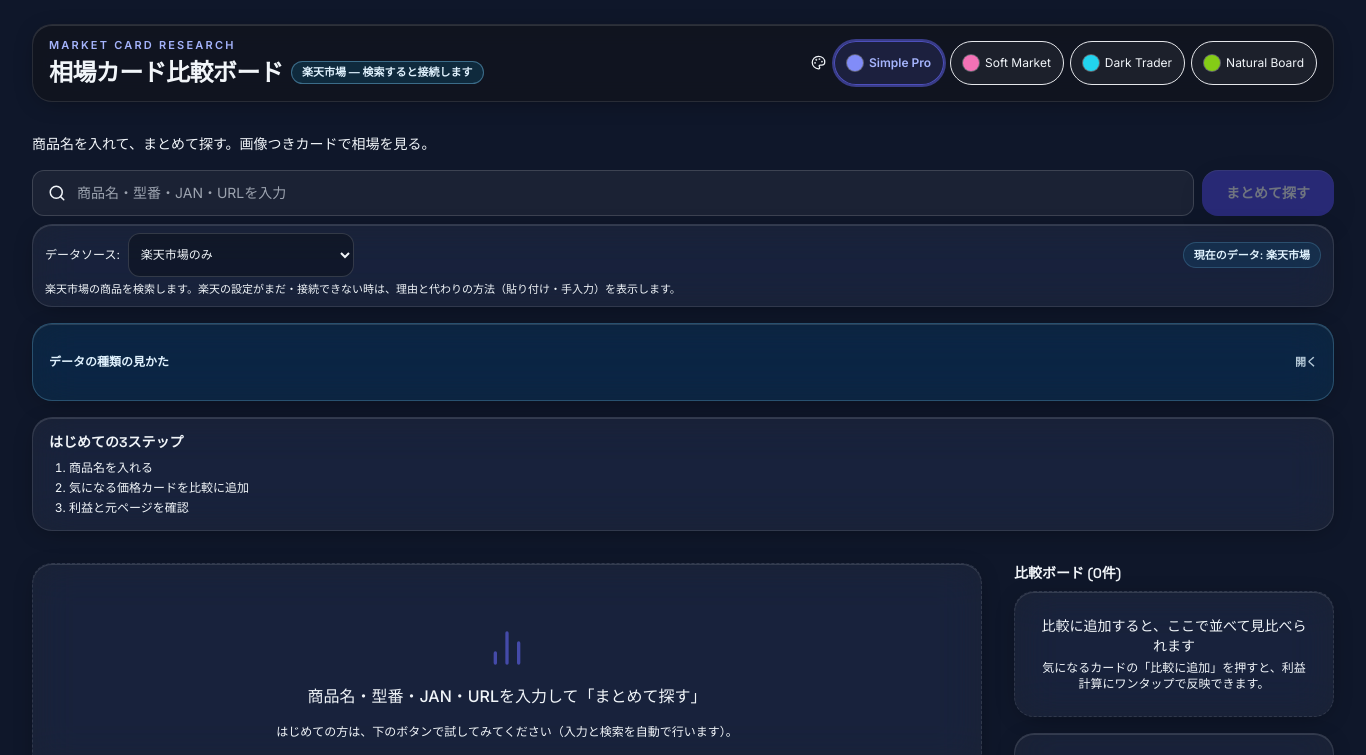
Test: AppShell › shows a 0件 empty-state message when a search returns no cards
The width and height of the screenshot is (1366, 755).
Type "zzzz-no-result" into the field labelled "商品名・型番・JAN・URL". click: [613, 193]
box: [32, 170, 1194, 216]
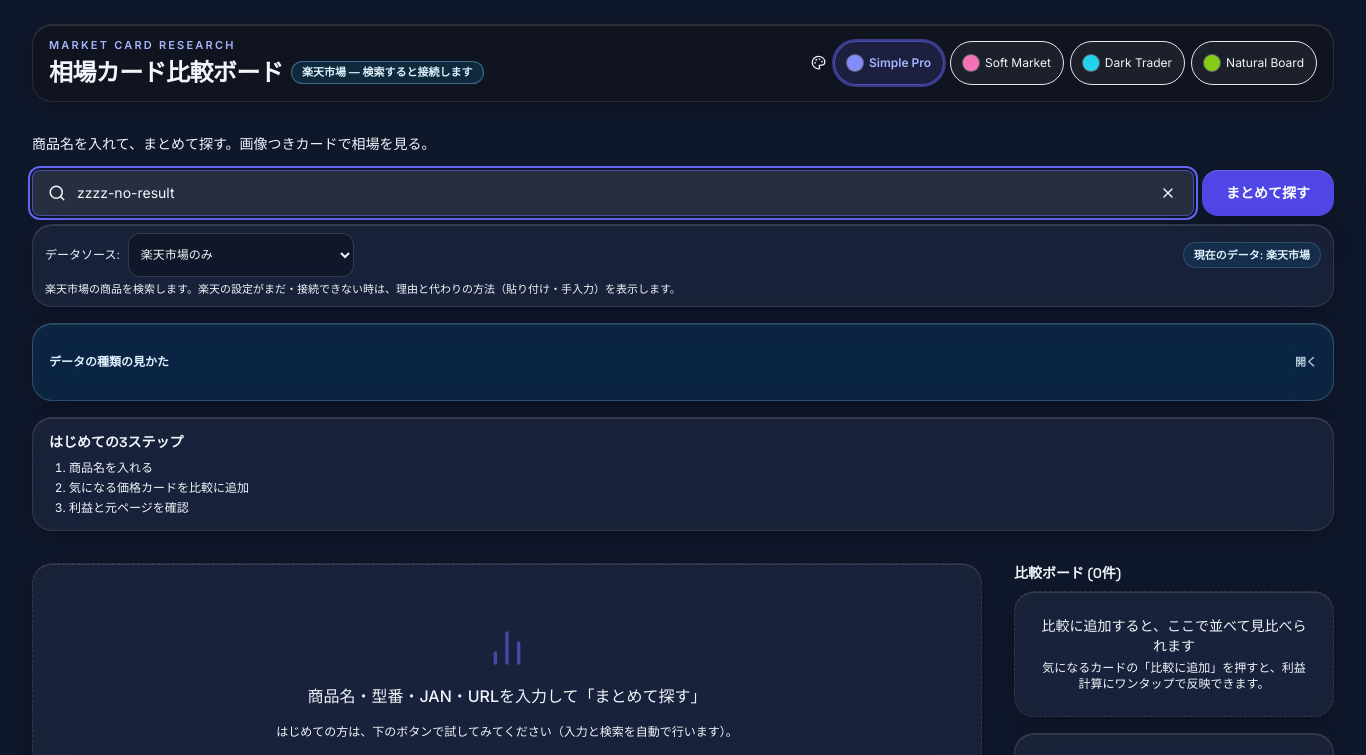
Click the button "まとめて探す". click: [1268, 193]
box: [1202, 170, 1334, 216]
(page scrolled)
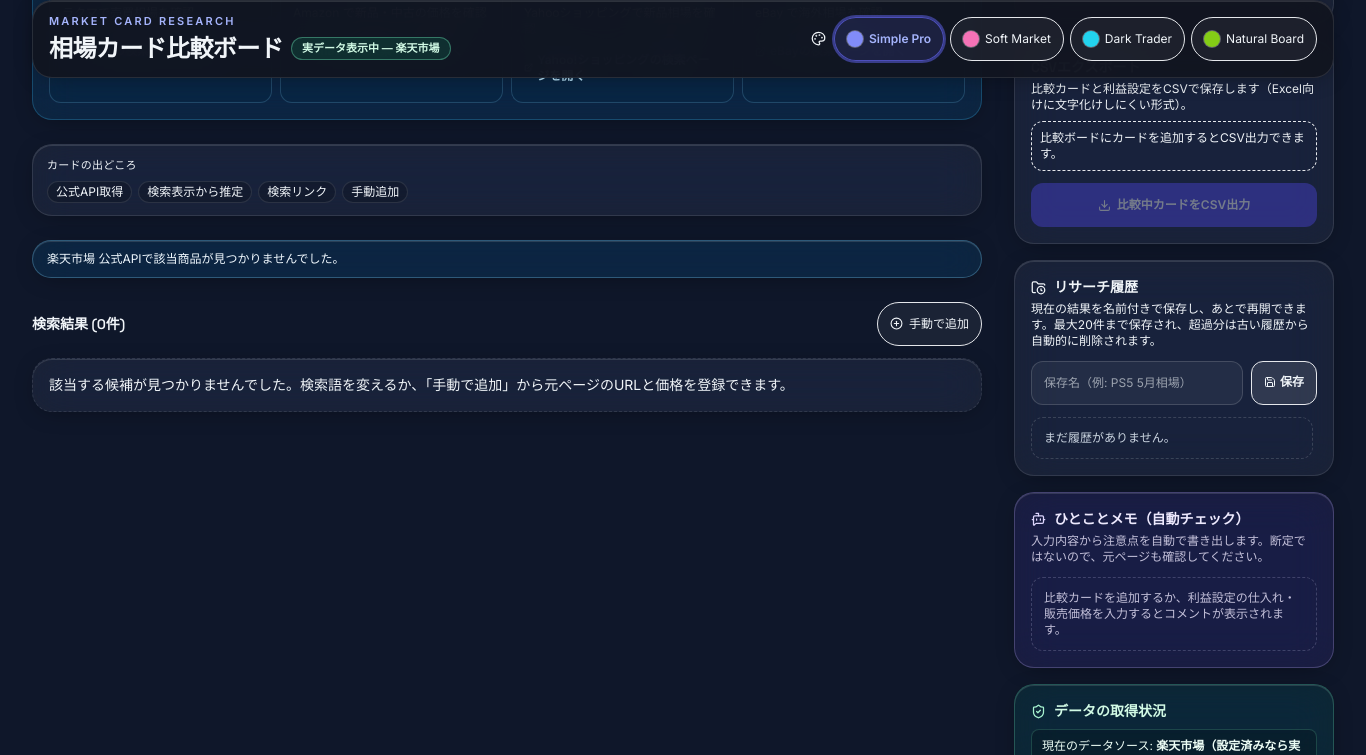
Result: the text "該当する候補が見つかりませんでした。検索語を変えるか、「手動で追加」から元ページのURLと価格を登録できます。" is shown at [32, 358, 982, 412]
